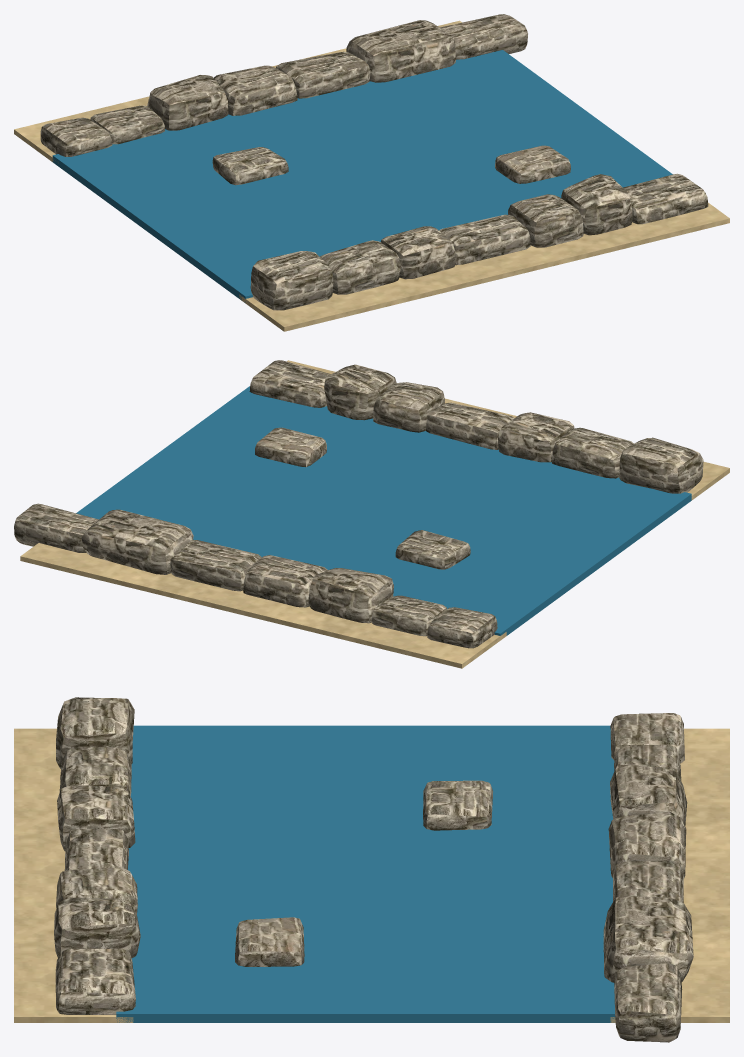
The model's file is water_river-straight.glb.
3 views of the same model, one above another, from view 1: azimuth 30°, elevation 25°; view 2: azimuth 150°, elevation 25°; view 3: azimuth 270°, elevation 25° (orthographic). The views are drawn at different scales.
Parts seen in each view (by area): view 1: water.001, stone, sand; view 2: water.001, stone, sand; view 3: water.001, stone, sand.
Boxes of the visible parts, x1,y1,x2,y2 form: water.001: (52, 50, 672, 302); stone: (40, 14, 708, 310); sand: (14, 20, 729, 331); water.001: (76, 386, 691, 635); stone: (14, 360, 703, 648); sand: (20, 360, 729, 668); water.001: (116, 725, 615, 1022); stone: (54, 697, 693, 1042); sand: (14, 728, 729, 1022).
Size of the model in its own units: 4.26 by 0.4035 by 4.2.
3 materials, 2 textured.
